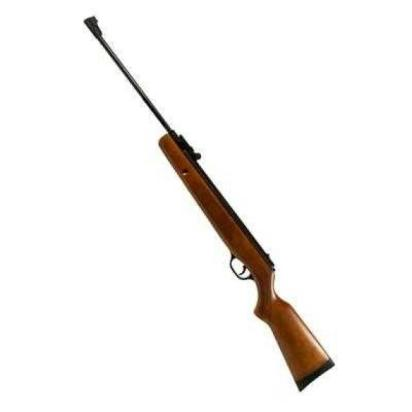Gun: (79, 13, 341, 394)
